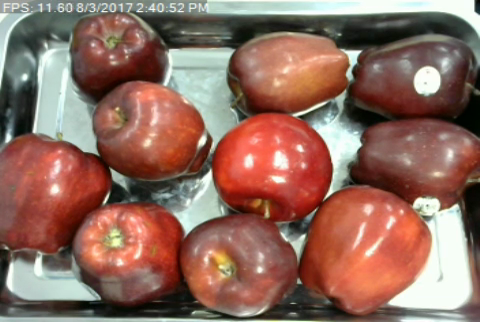Apple: (293, 183, 433, 320), (0, 128, 116, 261), (205, 108, 336, 223), (174, 207, 300, 320), (345, 115, 480, 217), (89, 78, 215, 184), (68, 198, 188, 307), (346, 31, 480, 124), (224, 28, 353, 117), (67, 7, 173, 103)
